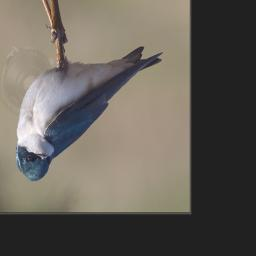Swallow: (14, 46, 164, 182)
